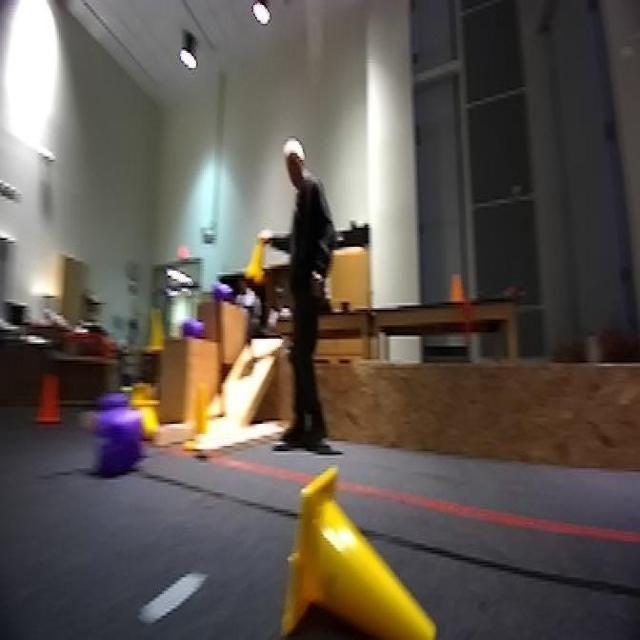frc_cone: (276, 468, 441, 635), (238, 240, 276, 293), (184, 383, 211, 449), (143, 303, 168, 357), (140, 395, 163, 437), (126, 376, 156, 404)
frc_cube: (96, 410, 143, 482), (178, 314, 208, 336), (208, 281, 232, 305), (98, 393, 127, 410)
